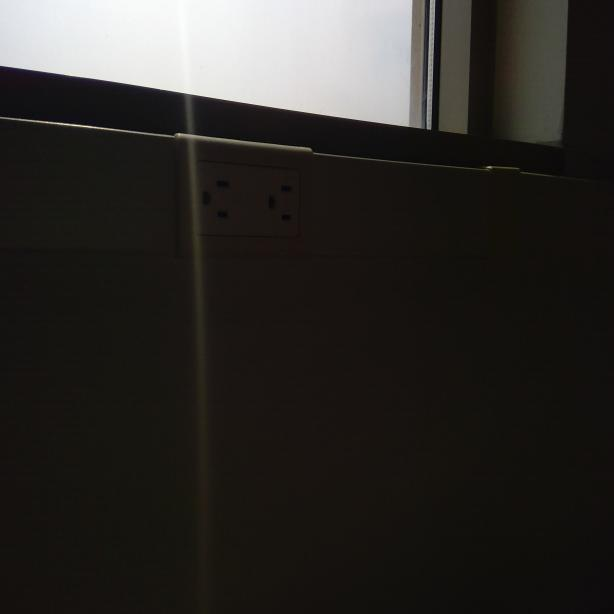typeb: (190, 160, 238, 237), (256, 170, 300, 236)
